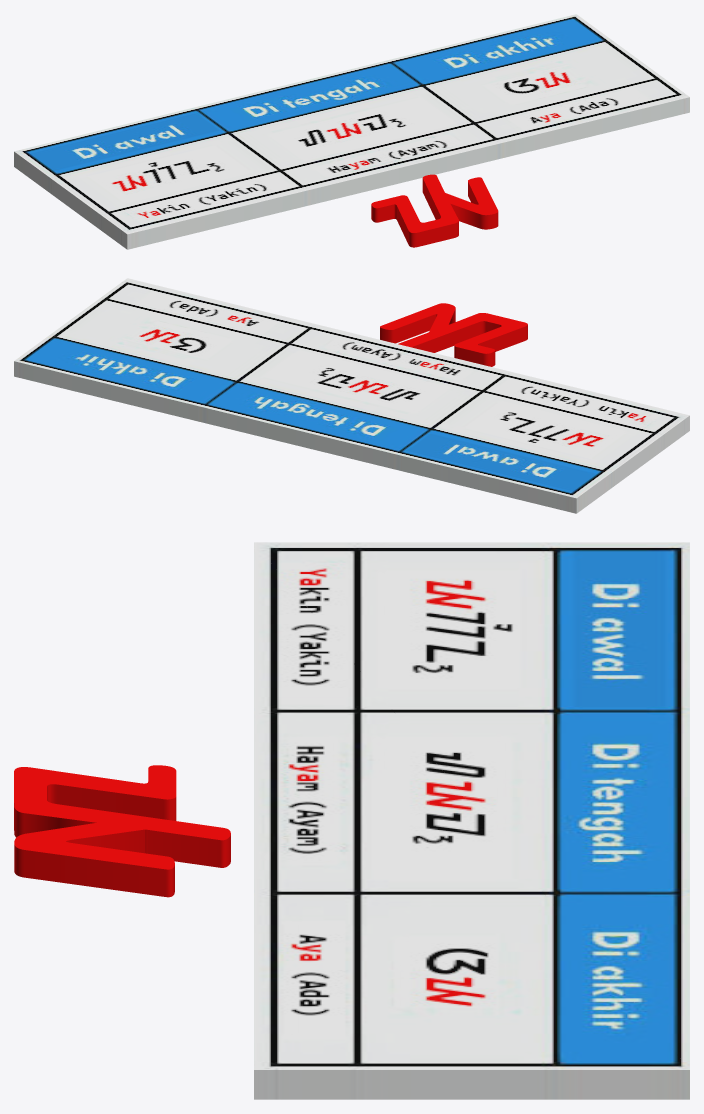
3 renders of one model, top to bottom at view 1: azimuth 30°, elevation 25°; view 2: azimuth 150°, elevation 25°; view 3: azimuth 270°, elevation 25°, orthographic. The views are drawn at different scales.
Parts seen in each view (by area): view 1: contoh-bunyi-huruf-ya-Ngalagena, Text; view 2: contoh-bunyi-huruf-ya-Ngalagena, Text; view 3: contoh-bunyi-huruf-ya-Ngalagena, Text.
Part boxes in pixels (left/top/right/bottom): contoh-bunyi-huruf-ya-Ngalagena: left=14, top=14, right=689, bottom=249; Text: left=371, top=174, right=498, bottom=247; contoh-bunyi-huruf-ya-Ngalagena: left=14, top=278, right=689, bottom=513; Text: left=380, top=303, right=527, bottom=366; contoh-bunyi-huruf-ya-Ngalagena: left=254, top=542, right=689, bottom=1099; Text: left=14, top=765, right=230, bottom=897.
Bounding box in the file's own units: 2.86 × 0.11 × 1.55.
Materials: 2 (1 with a texture image).
